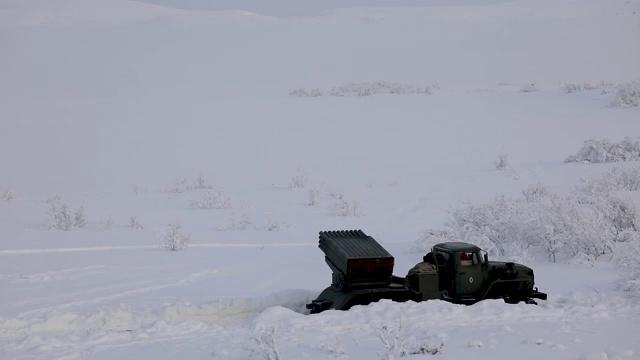MIL_SAM_TEL: (309, 229, 543, 312)
